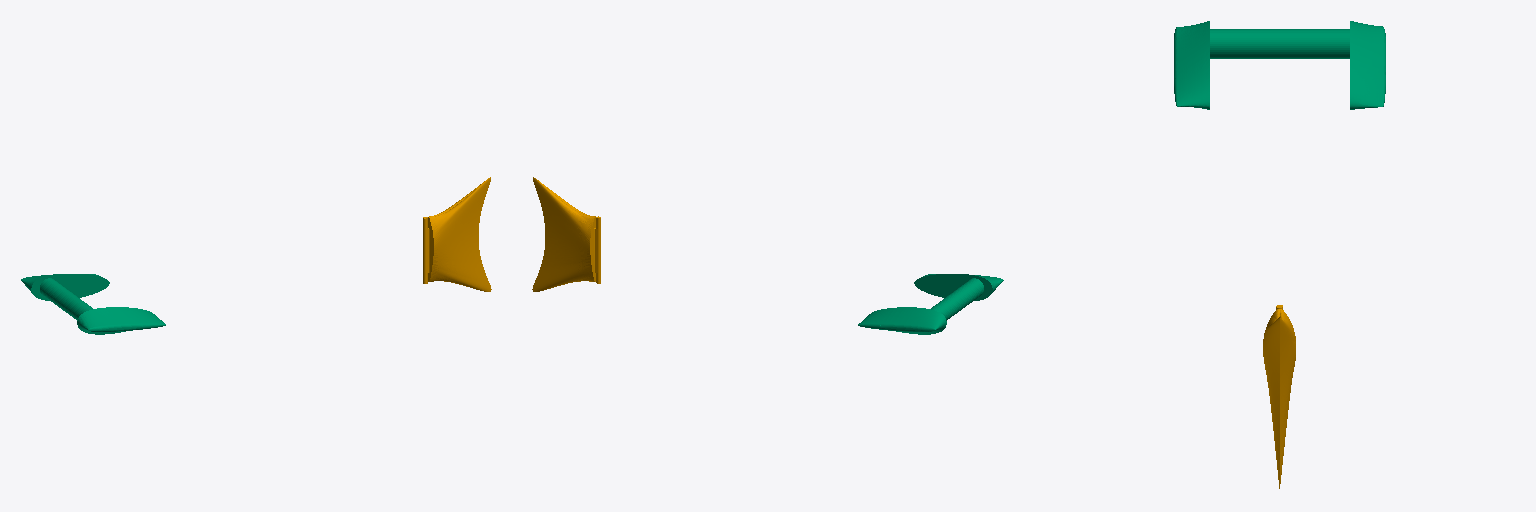
URDF robot description (Biomimetic):
<?xml version='1.0' encoding='utf-8'?>
<robot name="Biomimetic">
    <link name="Rear-Fin">
        <inertial>
            <origin xyz="0.00027484232876314965 1.667656435433429e-07 0.015001340935642522" rpy="0.0 -0.0 0.0" />
            <mass value="0.0009810419371682414" />
            <inertia ixx="6.381203867330296e-08" iyy="6.387757634909987e-08" izz="6.674473572878365e-10" ixy="-5.627546022190751e-12" iyz="2.698986613699847e-12" ixz="-3.075078312341319e-11" />
        </inertial>
        <visual name="Rear-Fin_visual">
            <origin xyz="-0.1685 -0.025000000745058062 0.030000013515570533" rpy="0.0 -0.0 0.0" />
            <geometry>
                <mesh filename="meshes/Rear-Fin.stl" scale="0.001 0.001 0.001" />
            </geometry>
        </visual>
        <collision name="Rear-Fin_collision">
            <origin xyz="-0.1685 -0.025000000745058062 0.030000013515570533" rpy="0.0 -0.0 0.0" />
            <geometry>
                <mesh filename="meshes/Rear-Fin.stl" scale="0.001 0.001 0.001" />
            </geometry>
        </collision>
    </link>
    <link name="Body">
        <inertial>
            <origin xyz="0.013459196472192202 0.025000009593440047 -0.004835075808883665" rpy="0.0 0.0 0.0" />
            <mass value="5.0792171674360125" />
            <inertia ixx="0.00411399632785542" iyy="0.024616479993953312" izz="0.021191256368660247" ixy="-2.2659308847663984e-10" iyz="-2.998658873293314e-11" ixz="0.0002704678775184273" />
        </inertial>
        <visual name="Body_visual">
            <origin xyz="0.0 0.0 0.0" rpy="0.0 0.0 0.0" />
            <geometry>
                <mesh filename="meshes/Body.stl" scale="0.001 0.001 0.001" />
            </geometry>
        </visual>
        <collision name="Body_collision">
            <origin xyz="0.0 0.0 0.0" rpy="0.0 0.0 0.0" />
            <geometry>
                <mesh filename="meshes/Body.stl" scale="0.001 0.001 0.001" />
            </geometry>
        </collision>
    </link>
    <link name="Front-Fin">
        <inertial>
            <origin xyz="0.0067052120585023925 0.0013226675934459387 0.018054674936638017" rpy="0.0 -0.0 0.0" />
            <mass value="0.04870751907868534" />
            <inertia ixx="1.995058528853168e-05" iyy="2.3622311751599388e-05" izz="4.361984471852335e-06" ixy="-6.796445946854678e-07" iyz="-8.922467346019635e-09" ixz="-1.999389642297491e-08" />
        </inertial>
        <visual name="Front-Fin_visual">
            <origin xyz="0.0009848077530122087 0.00017364817766692993 -0.0069999974690213304" rpy="1.5707963267948966 -5.88933255696368e-17 0.17453292519943317" />
            <geometry>
                <mesh filename="meshes/Front-Fin.stl" scale="0.001 0.001 0.001" />
            </geometry>
        </visual>
        <collision name="Front-Fin_collision">
            <origin xyz="0.0009848077530122087 0.00017364817766692993 -0.0069999974690213304" rpy="1.5707963267948966 -5.88933255696368e-17 0.17453292519943317" />
            <geometry>
                <mesh filename="meshes/Front-Fin.stl" scale="0.001 0.001 0.001" />
            </geometry>
        </collision>
    </link>
    <joint name="Body_Revolute-1" type="revolute">
        <origin xyz="0.1685 0.025 4.2000000000000004e-06" rpy="3.141592653589793 -0.0 0.0" />
        <parent link="Body" />
        <child link="Rear-Fin" />
        <axis xyz="0.0 0.0 1.0" />
        <limit lower="-0.523599" upper="0.523599" effort="1000000" velocity="1000000" />
    </joint>
    <joint name="Body_Revolute-2" type="revolute">
        <origin xyz="-0.001 0.00707888 0.0" rpy="-1.5707963267948966 -0.0 0.0" />
        <parent link="Body" />
        <child link="Front-Fin" />
        <axis xyz="0.0 0.0 1.0" />
        <limit lower="-0.174533" upper="0.392699" effort="1000000" velocity="1000000" />
    </joint>
</robot>

--- Facts derived from the render (not from the file) ---
The picture shows the robot from 3 angles, left to right: view 1: azimuth 30°, elevation 25°; view 2: azimuth 150°, elevation 25°; view 3: azimuth 270°, elevation 25°; orthographic projection.
Robot: Biomimetic — 3 links, 2 joints (2 revolute); root link Body; default pose: all joints at 0.
Visible links, largest first — view 1: Rear-Fin, Front-Fin; view 2: Rear-Fin, Front-Fin; view 3: Front-Fin, Rear-Fin.
Link boxes in pixels (x1=…): Rear-Fin: x1=423, y1=177, x2=491, y2=291; Front-Fin: x1=21, y1=274, x2=165, y2=334; Rear-Fin: x1=532, y1=177, x2=600, y2=291; Front-Fin: x1=858, y1=274, x2=1003, y2=334; Front-Fin: x1=1174, y1=21, x2=1385, y2=109; Rear-Fin: x1=1263, y1=305, x2=1295, y2=488.
Bounding box of the posed robot: 0.2091 × 0.058 × 0.0523 m (x, y, z).
Meshes: 3 distinct files referenced, 2 mesh visuals loaded (2 binary STL); not drawn: 1 (reference not matched to a file when rendering).